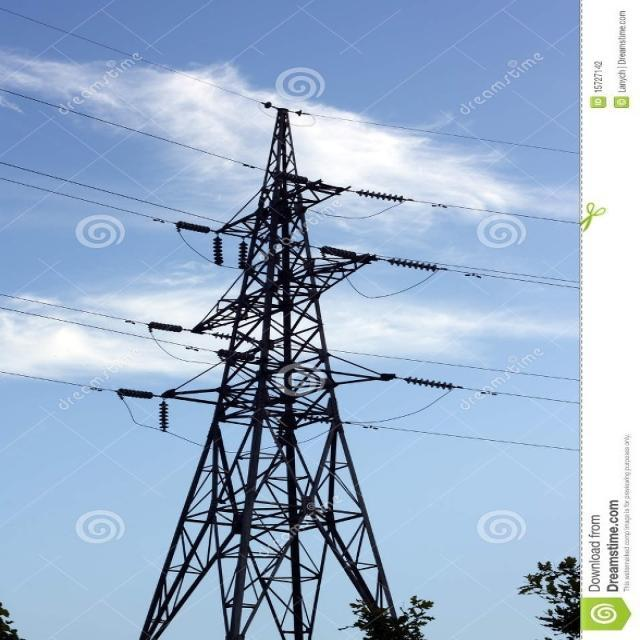non-critical vegetation: (144, 95, 423, 588)
